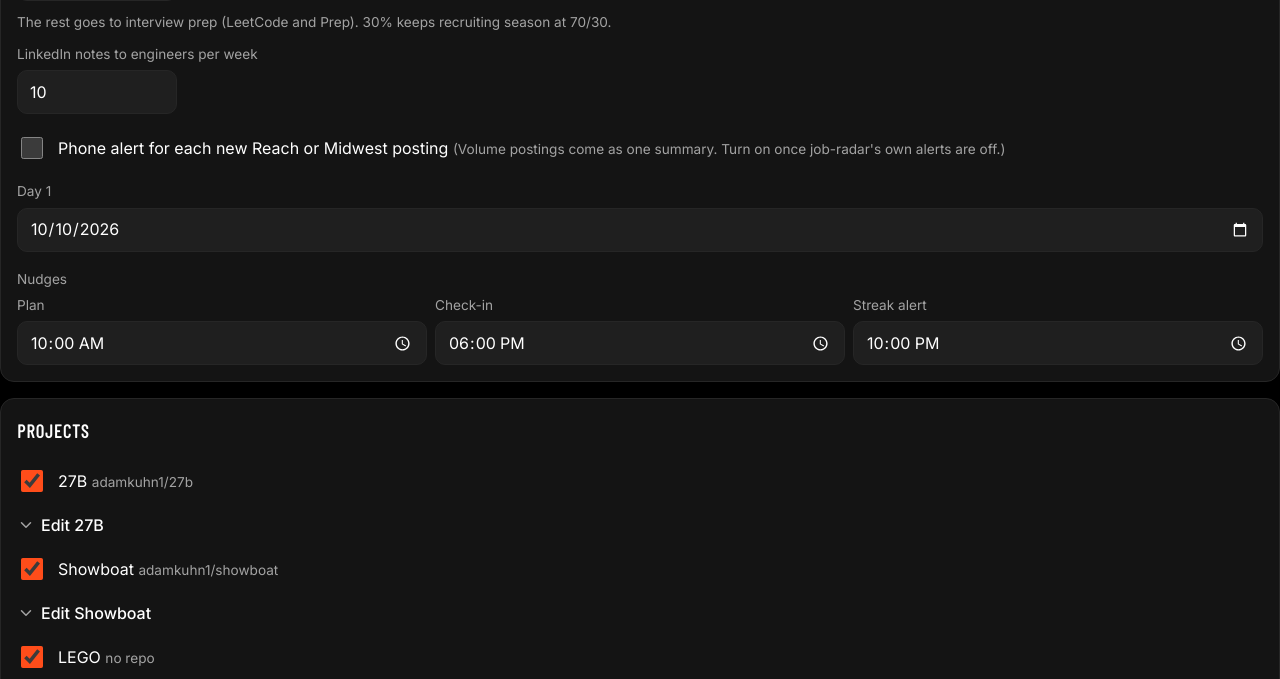
Test: Settings › rejects nudge times out of order
(page scrolled)
Replace the text in the time field labelled "Check-in" with "09:00" at (640, 344), box [435, 322, 845, 366]
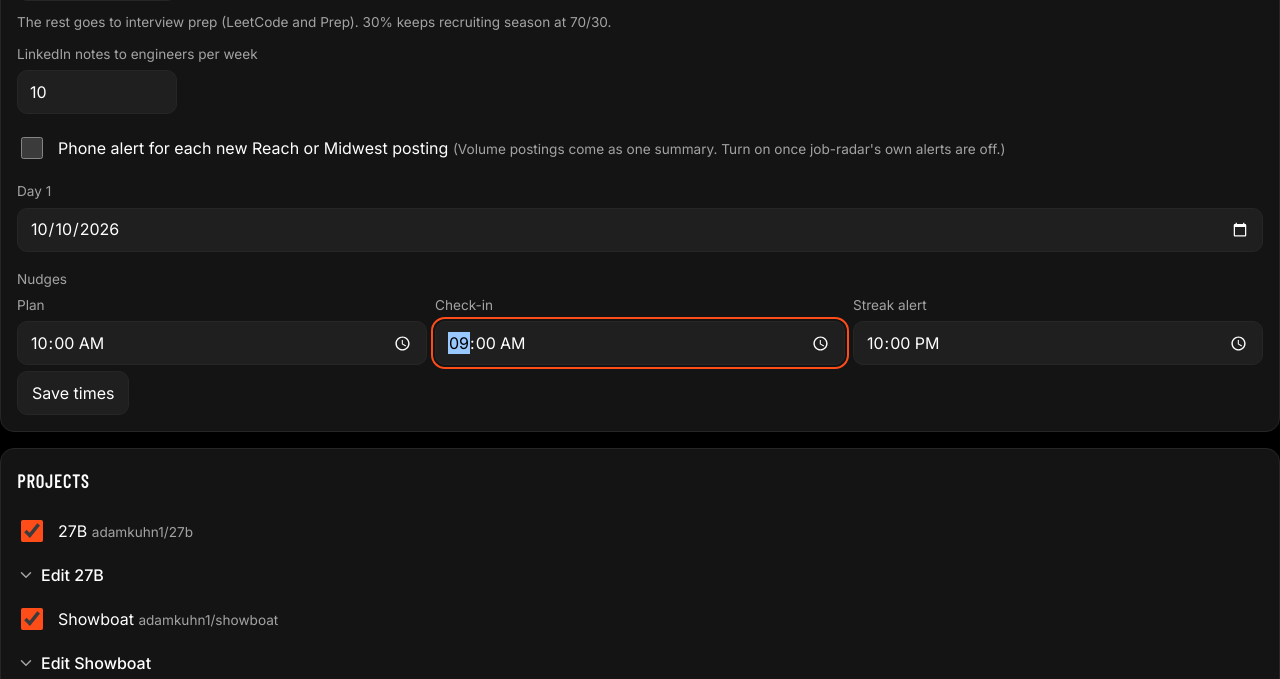
Check: the text "Times must be in order." is not shown
Click the button "Save times".
click(73, 394)  # box [17, 372, 129, 416]
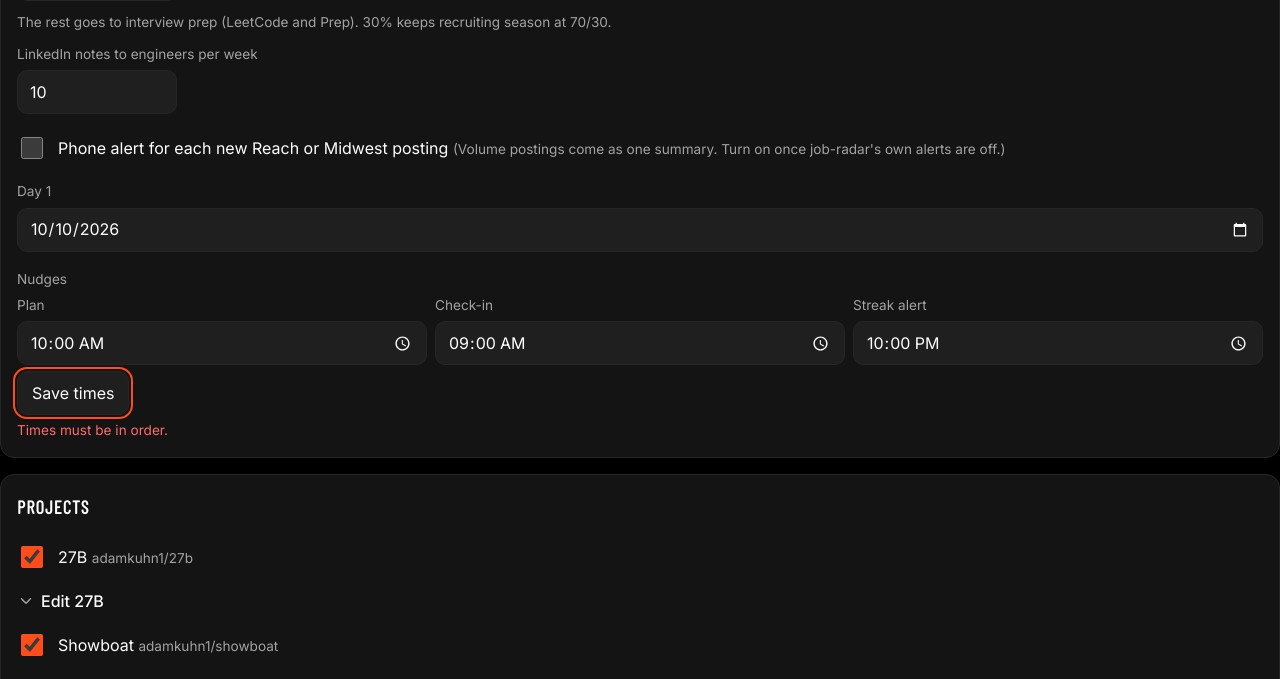
Check: the text "Times must be in order." is shown, box [17, 422, 168, 438]
